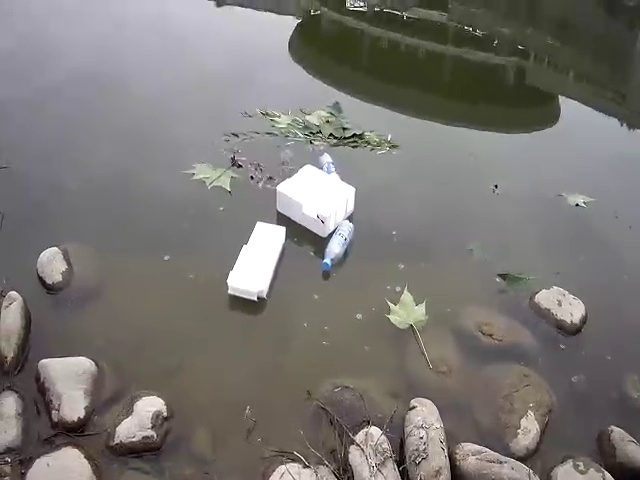bottle: (322, 219, 357, 277), (314, 147, 348, 181)
leaf: (231, 98, 408, 158), (375, 287, 438, 329), (194, 152, 240, 197), (493, 261, 534, 293), (556, 186, 597, 214)
paomo: (276, 157, 354, 231), (228, 218, 286, 304)
